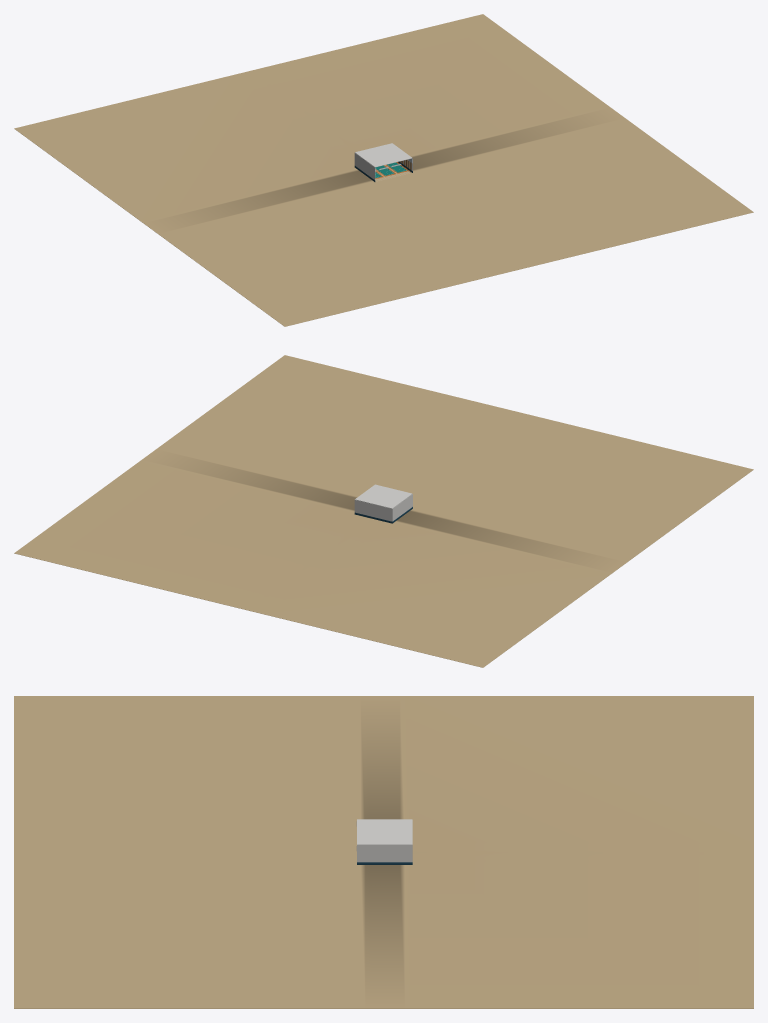
Rendered from badminton-oUQxJ5Ku.glb.
3 views of the same model, one above another, from view 1: azimuth 30°, elevation 25°; view 2: azimuth 150°, elevation 25°; view 3: azimuth 270°, elevation 25° (orthographic). The views are drawn at different scales.
Visible parts, largest first — view 1: arena; view 2: arena; view 3: arena.
Part boxes in pixels (box(x1,y1,x2,y2)): arena: box(14, 14, 753, 326); arena: box(14, 355, 753, 667); arena: box(14, 696, 753, 1008).
Size of the model in its own units: 300 by 9.32 by 300.
